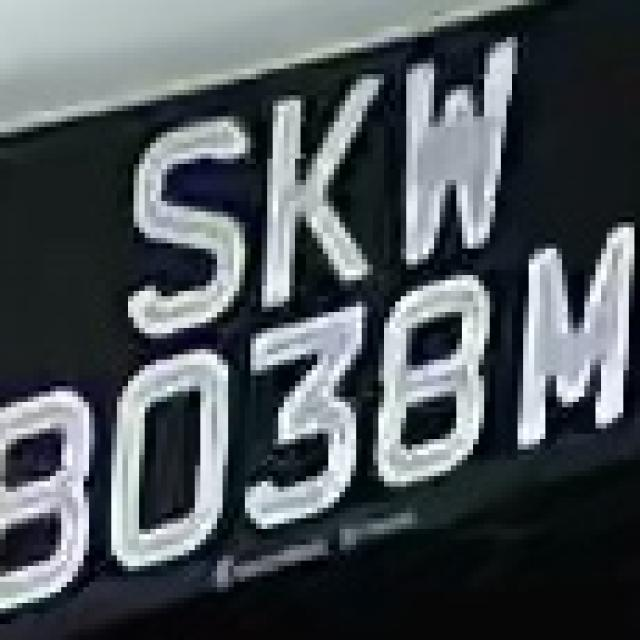0: (89, 333, 245, 577)
3: (217, 296, 378, 529)
8: (345, 254, 495, 486), (5, 354, 106, 603)
K: (256, 58, 401, 302)
M: (506, 222, 634, 460)
S: (117, 95, 245, 333)
W: (390, 37, 523, 259)
